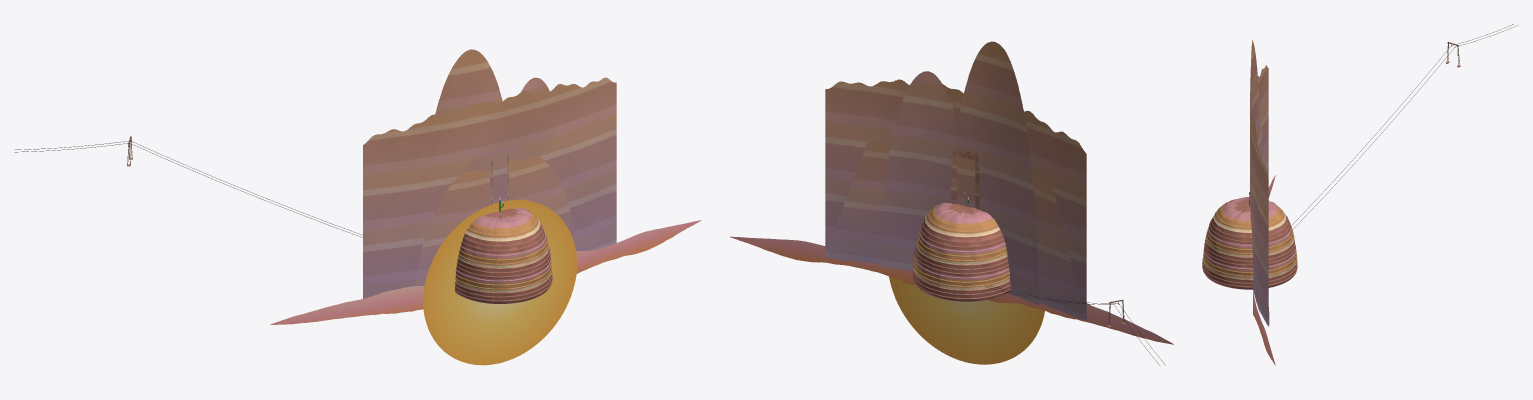
File: sugarloaf_kit_pass6_a.fbx
3 renders of one model, left to right at view 1: azimuth 30°, elevation 25°; view 2: azimuth 150°, elevation 25°; view 3: azimuth 270°, elevation 25°, orthographic. The views are drawn at different scales.
Visible parts, largest first — view 1: far_arch_card__CardArch, sun_disc__SunGold, distant_mesa_card__CardMesa, old_sugarloaf_shell_part3__Strata, far_butte_card__CardTwins, cloud_streak__CardCloud, old_sugarloaf_shell_part4__Strata, gondola_cable__Licorice; view 2: far_butte_card__CardTwins, far_arch_card__CardArch, distant_mesa_card__CardMesa, sun_disc__SunGold, old_sugarloaf_shell_part2__Strata, cloud_streak__CardCloud, old_sugarloaf_shell_part1__Strata, butte_spire_card__CardButte; view 3: old_sugarloaf_shell_part4__Strata, far_arch_card__CardArch, old_sugarloaf_shell_part1__Strata, far_butte_card__CardTwins, distant_mesa_card__CardMesa, gondola_cable__Licorice, cloud_streak__CardCloud, old_sugarloaf_shell_part3__Strata.
Part boxes in pixels (<box>): far_arch_card__CardArch: <box>363,77,616,298</box>; sun_disc__SunGold: <box>423,200,576,365</box>; distant_mesa_card__CardMesa: <box>416,155,575,286</box>; old_sugarloaf_shell_part3__Strata: <box>454,211,526,303</box>; far_butte_card__CardTwins: <box>435,49,549,204</box>; cloud_streak__CardCloud: <box>270,220,701,324</box>; old_sugarloaf_shell_part4__Strata: <box>501,207,552,300</box>; gondola_cable__Licorice: <box>14,141,362,237</box>; far_butte_card__CardTwins: <box>880,41,1038,304</box>; far_arch_card__CardArch: <box>825,79,1086,320</box>; distant_mesa_card__CardMesa: <box>828,140,1082,319</box>; sun_disc__SunGold: <box>889,276,1044,364</box>; old_sugarloaf_shell_part2__Strata: <box>939,206,1010,301</box>; cloud_streak__CardCloud: <box>730,236,1173,344</box>; old_sugarloaf_shell_part1__Strata: <box>912,202,965,298</box>; butte_spire_card__CardButte: <box>950,148,980,209</box>; old_sugarloaf_shell_part4__Strata: <box>1202,205,1249,289</box>; far_arch_card__CardArch: <box>1250,65,1268,326</box>; old_sugarloaf_shell_part1__Strata: <box>1250,206,1297,289</box>; far_butte_card__CardTwins: <box>1250,40,1261,207</box>; distant_mesa_card__CardMesa: <box>1250,124,1269,325</box>; gondola_cable__Licorice: <box>1292,24,1518,228</box>; cloud_streak__CardCloud: <box>1253,175,1275,365</box>; old_sugarloaf_shell_part3__Strata: <box>1202,197,1249,266</box>.
Bounding box in the file's own units: 90118 × 50800 × 49081.
Materials: 284 (216 with a texture image).
